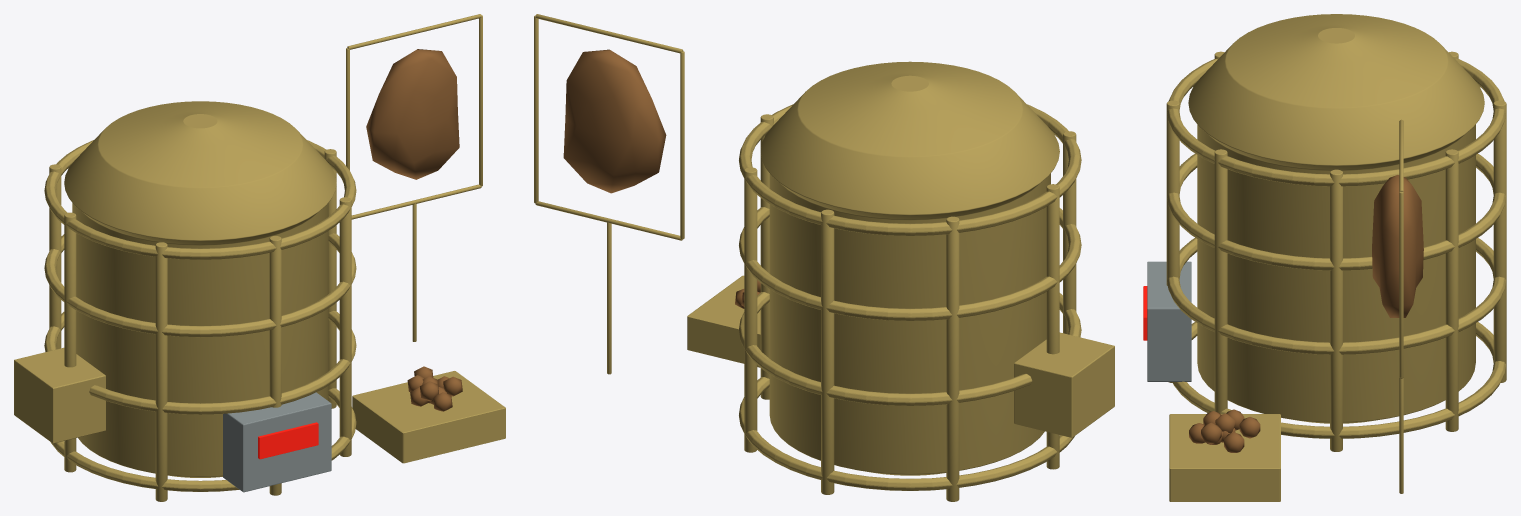
The picture shows the model from 3 angles, left to right: view 1: azimuth 30°, elevation 25°; view 2: azimuth 150°, elevation 25°; view 3: azimuth 270°, elevation 25°; orthographic projection. The views are drawn at different scales.
Visible parts, largest first — view 1: TI083 / rounded gold ore canister, TI083 / separate mineral specimen, TI083 / small sample tray, TI083 / front terminal, TI083 / side cargo block, TI083 / canister cage hoop.003, TI083 / canister cage hoop.002, TI083 / canister cage hoop.001, TI083 / canister protective upright.005, TI083 / canister protective upright.007, TI083 / canister cage hoop, TI083 / canister protective upright.006 (+8 smaller); view 2: TI083 / rounded gold ore canister, TI083 / separate mineral specimen, TI083 / side cargo block, TI083 / canister cage hoop.003, TI083 / canister cage hoop.002, TI083 / canister cage hoop, TI083 / canister cage hoop.001, TI083 / canister protective upright.003, TI083 / canister protective upright.002, TI083 / small sample tray, TI083 / canister protective upright.001, TI083 / canister protective upright.004 (+7 smaller); view 3: TI083 / rounded gold ore canister, TI083 / small sample tray, TI083 / canister cage hoop.003, TI083 / separate mineral specimen, TI083 / canister cage hoop.001, TI083 / canister cage hoop.002, TI083 / front terminal, TI083 / canister cage hoop, TI083 / canister protective upright.001, TI083 / canister protective upright, TI083 / canister protective upright.007, TI083 / canister protective upright.002 (+3 smaller).
Part boxes in pixels (<box>): TI083 / rounded gold ore canister: <box>64,101,336,477</box>; TI083 / separate mineral specimen: <box>366,49,459,179</box>; TI083 / small sample tray: <box>352,371,505,463</box>; TI083 / front terminal: <box>223,392,331,492</box>; TI083 / side cargo block: <box>14,347,105,443</box>; TI083 / canister cage hoop.003: <box>44,140,356,259</box>; TI083 / canister cage hoop.002: <box>44,233,356,337</box>; TI083 / canister cage hoop.001: <box>44,311,356,414</box>; TI083 / canister protective upright.005: <box>155,242,167,501</box>; TI083 / canister protective upright.007: <box>339,197,351,456</box>; TI083 / canister cage hoop: <box>50,388,356,491</box>; TI083 / canister protective upright.006: <box>269,236,281,495</box>; TI083 / rounded gold ore canister: <box>760,61,1059,475</box>; TI083 / separate mineral specimen: <box>563,49,666,193</box>; TI083 / side cargo block: <box>1014,332,1114,437</box>; TI083 / canister cage hoop.003: <box>739,104,1081,235</box>; TI083 / canister cage hoop.002: <box>739,207,1081,320</box>; TI083 / canister cage hoop: <box>739,377,1074,490</box>; TI083 / canister cage hoop.001: <box>739,292,1081,405</box>; TI083 / canister protective upright.003: <box>946,216,959,501</box>; TI083 / canister protective upright.002: <box>821,209,834,494</box>; TI083 / small sample tray: <box>687,275,760,367</box>; TI083 / canister protective upright.001: <box>744,167,757,452</box>; TI083 / canister protective upright.004: <box>1046,184,1059,469</box>; TI083 / rounded gold ore canister: <box>1188,14,1484,423</box>; TI083 / small sample tray: <box>1169,414,1280,501</box>; TI083 / canister cage hoop.003: <box>1167,59,1505,186</box>; TI083 / separate mineral specimen: <box>1372,175,1423,317</box>; TI083 / canister cage hoop.001: <box>1167,237,1505,354</box>; TI083 / canister cage hoop.002: <box>1167,153,1505,270</box>; TI083 / front terminal: <box>1147,261,1191,381</box>; TI083 / canister cage hoop: <box>1172,322,1505,438</box>; TI083 / canister protective upright.001: <box>1445,149,1458,431</box>; TI083 / canister protective upright: <box>1330,169,1342,451</box>; TI083 / canister protective upright.007: <box>1214,149,1227,412</box>; TI083 / canister protective upright.002: <box>1493,100,1506,382</box>.
Size of the model in its own units: 3.24 by 2.11 by 1.95.
